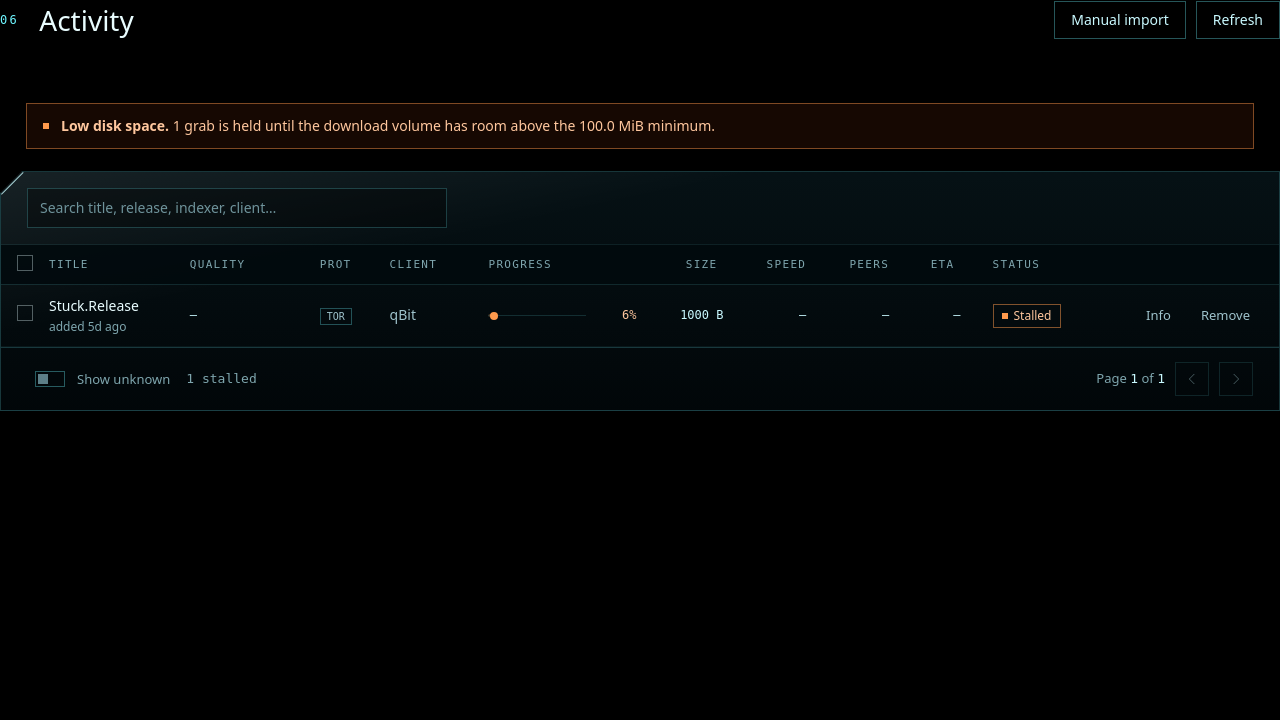
queue page recovery actions › says why a remove failed and keeps the dialog open to retry without the client
The width and height of the screenshot is (1280, 720).
Step 1. Click the button with aria-label "Remove Stuck.Release" → [1225, 316], box [1188,300,1263,332]
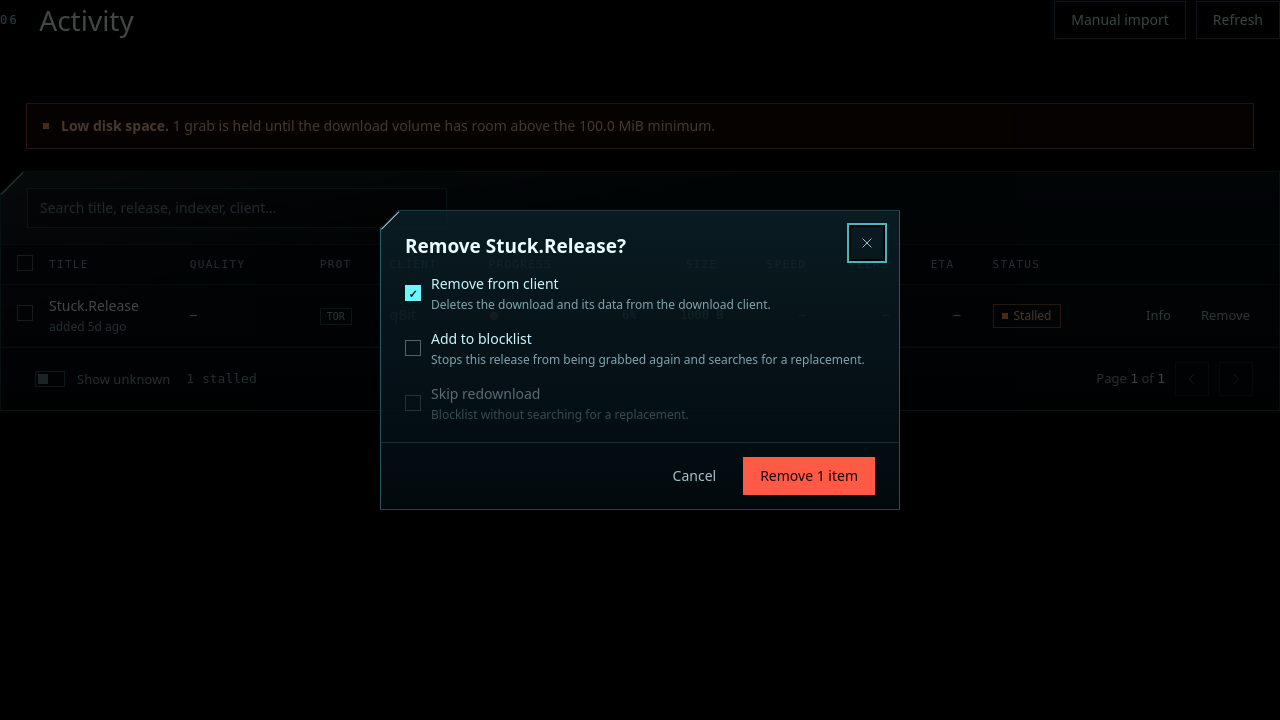
Step 2. Click the button "Remove 1 item" → [809, 476], box [743,457,875,495]
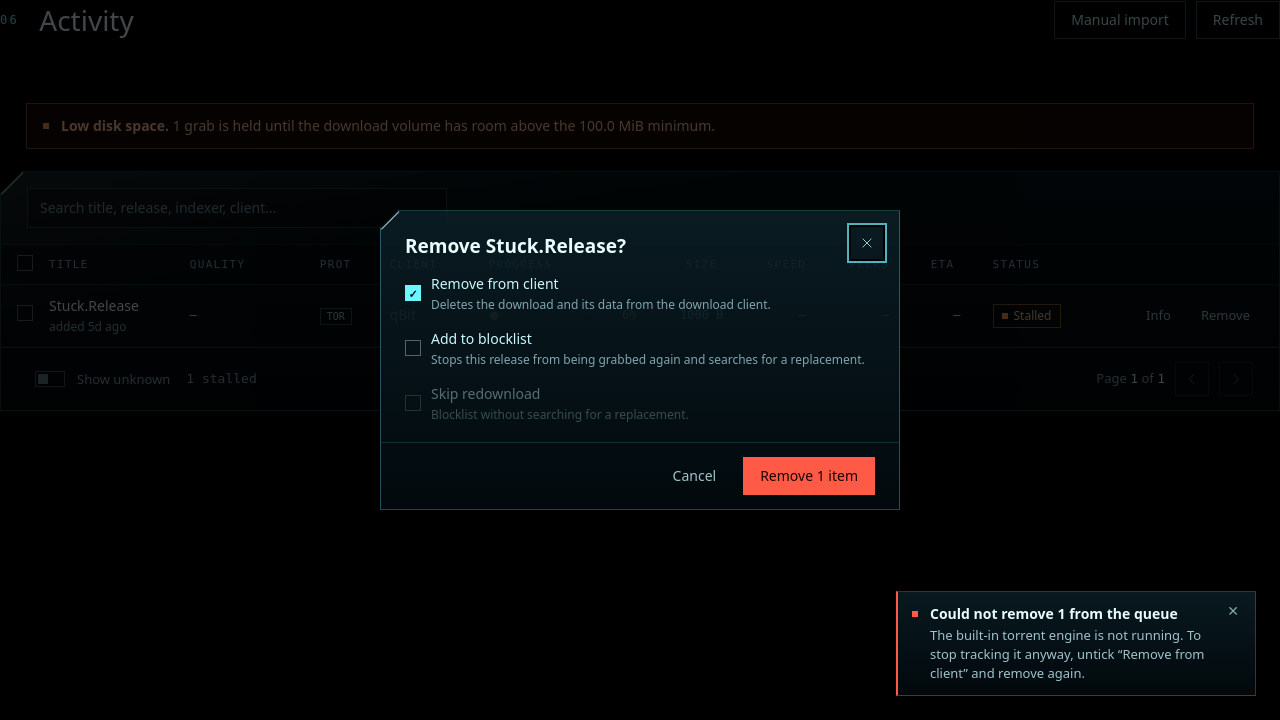
Expected: the dialog is shown, [380,210,900,510]
Expected: the text "The built-in torrent engine is not running" is shown, [930,626,1204,682]
Expected: the text "Could not remove 1 from the queue" is shown, [930,604,1213,624]
